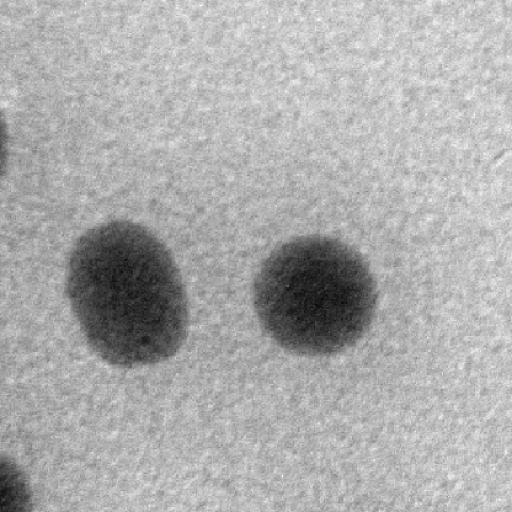Nanoparticles: (64, 214, 194, 370), (249, 227, 384, 362), (0, 451, 34, 512), (0, 113, 16, 185)
